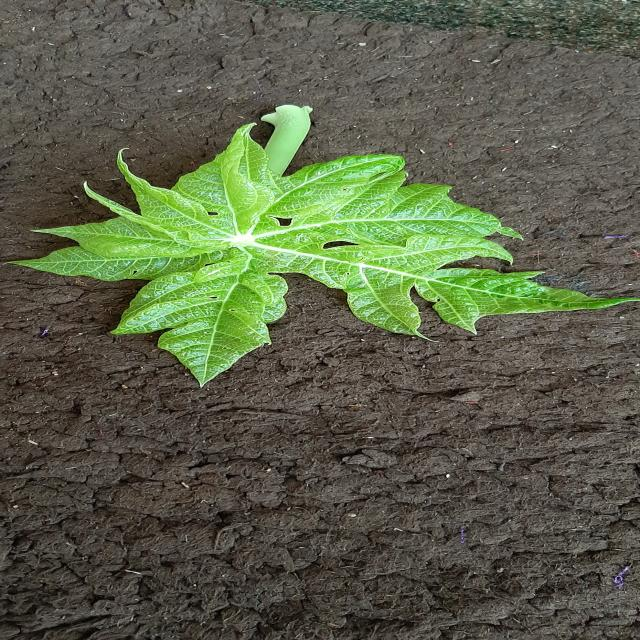papaya: (16, 106, 623, 370)
